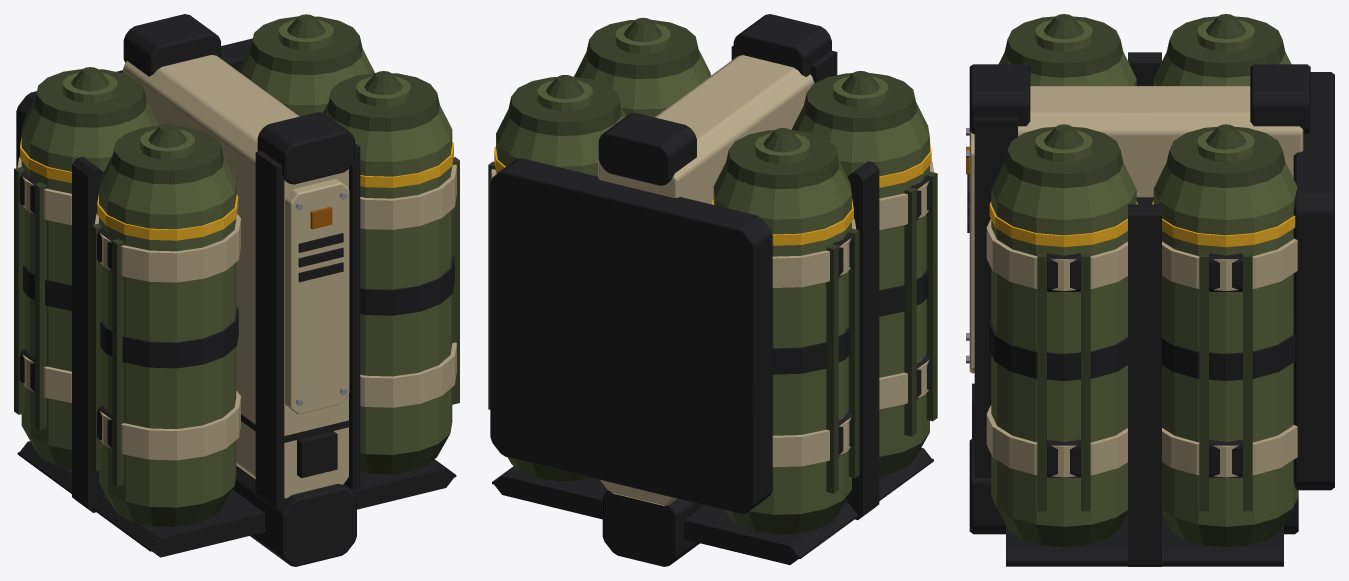
Rendered from backpack_missile.glb.
The picture shows the model from 3 angles, left to right: view 1: azimuth 30°, elevation 25°; view 2: azimuth 150°, elevation 25°; view 3: azimuth 270°, elevation 25°; orthographic projection. The views are drawn at different scales.
Parts seen in each view (by area): view 1: CanBody1, Spine, CanBody2, SpinePlate, SpineRailL, BaseTray, RackPostL, CanBody3, SpineFoot, SpineEnd1, CanShoulder1, CanStrap10 (+39 smaller); view 2: MountPlate, CanBody3, Spine, BaseTray, RackPostL, CanBody1, SpineEnd0, SpineFoot, CanShoulder3, CanLid2, CanLid1, CanLid4 (+30 smaller); view 3: CanBody2, CanBody4, MountPlate, Spine, RackPostR, SpineRailR, BaseTray, CanShoulder2, CanShoulder4, CanLid2, CanLid4, CanLid1 (+34 smaller).
Part boxes in pixels (x1,y1,x2,y2): CanBody1: (99, 183, 236, 507); Spine: (123, 55, 348, 498); CanBody2: (360, 130, 452, 454); SpinePlate: (285, 179, 349, 414); SpineRailL: (255, 151, 284, 508); BaseTray: (17, 441, 456, 557); RackPostL: (72, 156, 103, 512); CanBody3: (21, 133, 111, 449); SpineFoot: (233, 465, 356, 566); SpineEnd1: (257, 112, 354, 184); CanShoulder1: (99, 155, 236, 214); CanStrap10: (94, 214, 240, 282); MountPlate: (490, 158, 772, 514); CanBody3: (713, 188, 851, 514); Spine: (598, 55, 814, 505); BaseTray: (492, 448, 933, 564); RackPostL: (847, 161, 879, 519); CanBody1: (839, 137, 929, 456); SpineEnd0: (598, 112, 696, 185); SpineFoot: (602, 490, 704, 566); CanShoulder3: (713, 159, 851, 219); CanLid2: (586, 19, 699, 78); CanLid1: (804, 72, 917, 131); CanLid4: (508, 76, 621, 135); CanBody2: (991, 189, 1136, 526); CanBody4: (1153, 190, 1298, 526); MountPlate: (1293, 72, 1334, 490); Spine: (1018, 86, 1303, 197); RackPostR: (1128, 204, 1161, 566); SpineRailR: (974, 117, 1017, 477); BaseTray: (1006, 514, 1283, 566); CanShoulder2: (991, 163, 1136, 219); CanShoulder4: (1153, 163, 1297, 219); CanLid2: (1004, 126, 1123, 188); CanLid4: (1166, 126, 1285, 188); CanLid1: (1004, 16, 1123, 77).
Bounding box in the file's own units: 1.72 × 2.05 × 1.53.
